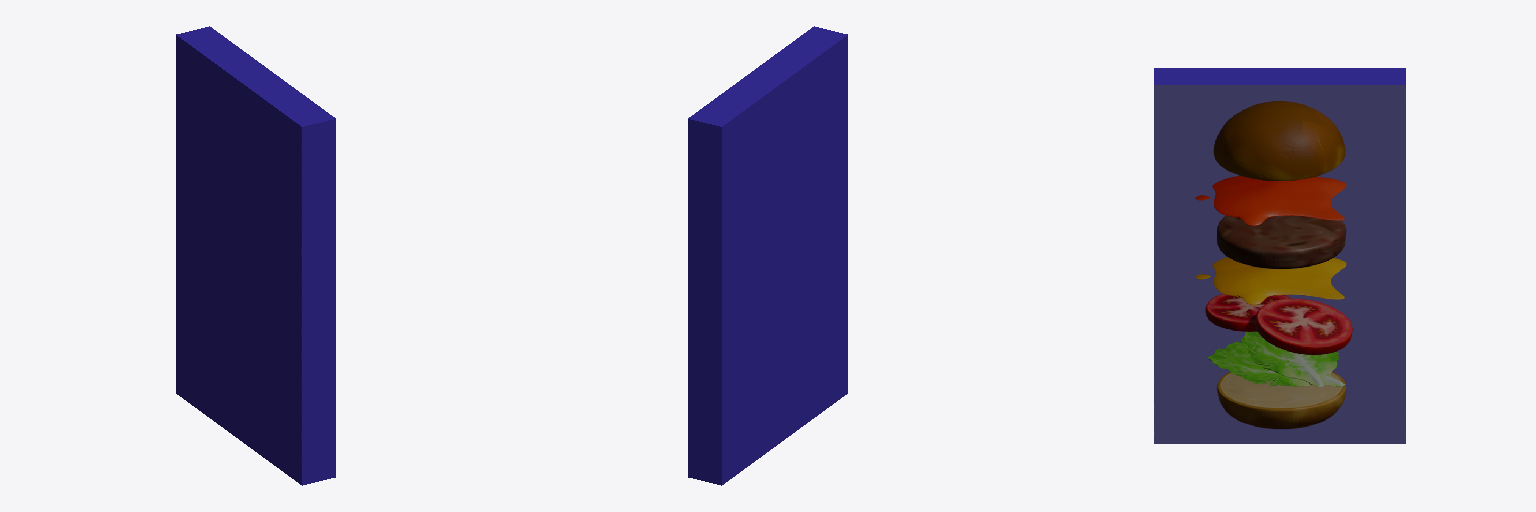
3 renders of one model, left to right at view 1: azimuth 30°, elevation 25°; view 2: azimuth 150°, elevation 25°; view 3: azimuth 270°, elevation 25°, orthographic.
Visible parts, largest first — view 1: Cube; view 2: Cube; view 3: Cube.
Part boxes in pixels (x1,y1,x2,y2): Cube: (176, 26, 335, 485); Cube: (688, 26, 847, 485); Cube: (1154, 68, 1405, 443).
Size of the model in its own units: 0.313 by 3.14 by 2.
Materials: 1 (1 with a texture image).